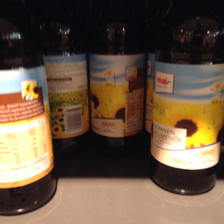oil: (149, 4, 224, 197), (1, 2, 58, 217), (86, 2, 148, 152), (36, 2, 89, 149)
